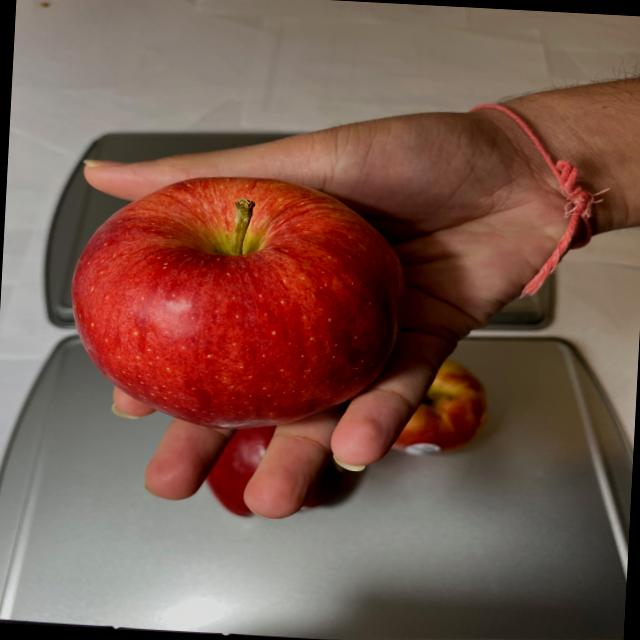apple: (62, 167, 413, 435)
